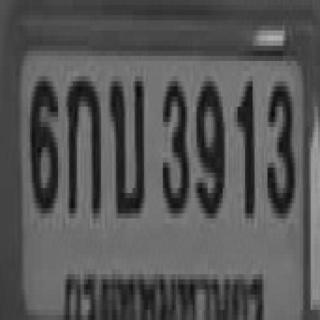A01: (65, 71, 99, 208)
A26: (108, 71, 143, 213)
N01: (236, 76, 253, 213)
N03: (266, 76, 294, 213), (161, 76, 187, 208)
N06: (28, 71, 56, 208)
N09: (195, 76, 223, 213)
